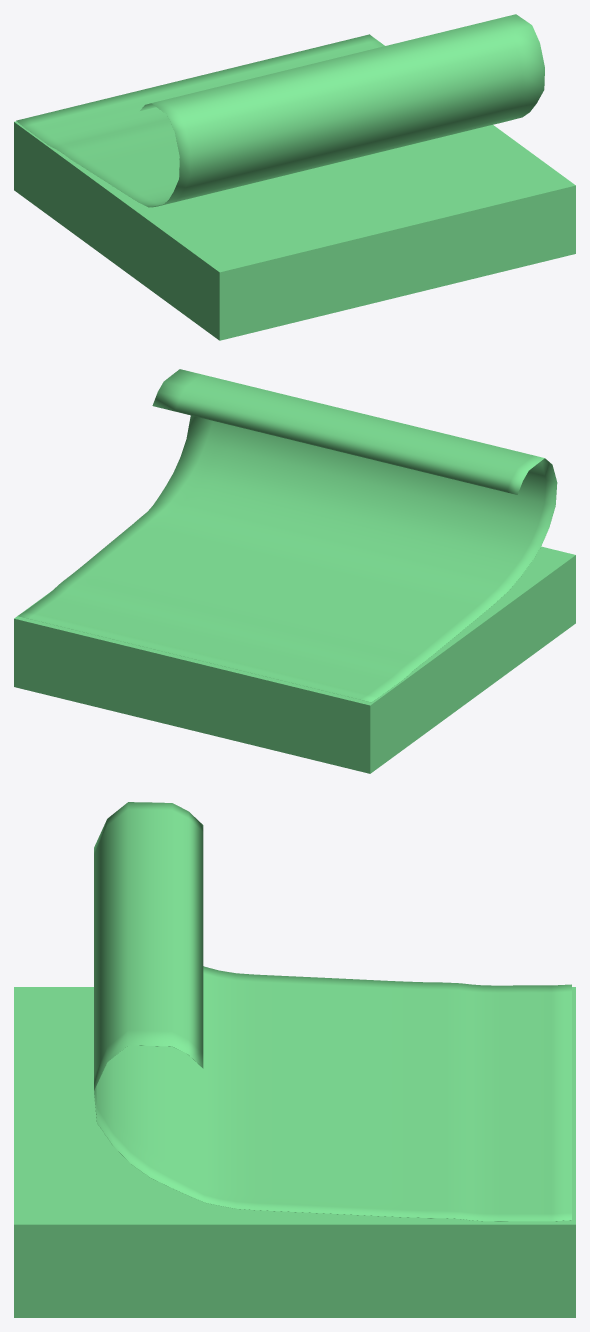
Rendered from Sticky Note Stack.fbx.
3 renders of one model, top to bottom at view 1: azimuth 30°, elevation 25°; view 2: azimuth 150°, elevation 25°; view 3: azimuth 270°, elevation 25°, orthographic. The views are drawn at different scales.
Parts seen in each view (by area): view 1: Sticky Note Stack, Sticky Note; view 2: Sticky Note, Sticky Note Stack; view 3: Sticky Note, Sticky Note Stack.
Part boxes in pixels (x1,y1,x2,y2): Sticky Note Stack: [14, 37, 575, 340]; Sticky Note: [16, 14, 544, 207]; Sticky Note: [18, 369, 557, 702]; Sticky Note Stack: [14, 546, 575, 773]; Sticky Note: [94, 802, 571, 1221]; Sticky Note Stack: [14, 987, 575, 1317].
Size of the model in its own units: 316 by 163 by 306.
